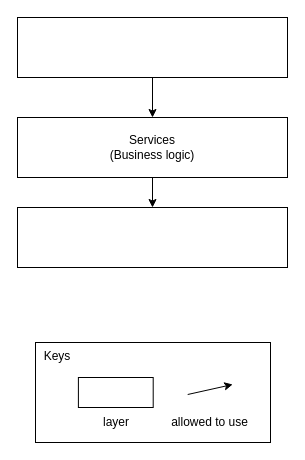
Image size: 305x460. Some labels were removed from this diagram. The shapes that lost their labels are listed below. From the top down, each one's centre as x and y in pixels, then its label:
point (152, 47): Controllers (API definition, parse inputs and format outputs)
point (152, 237): Repositories (Data access logic)
